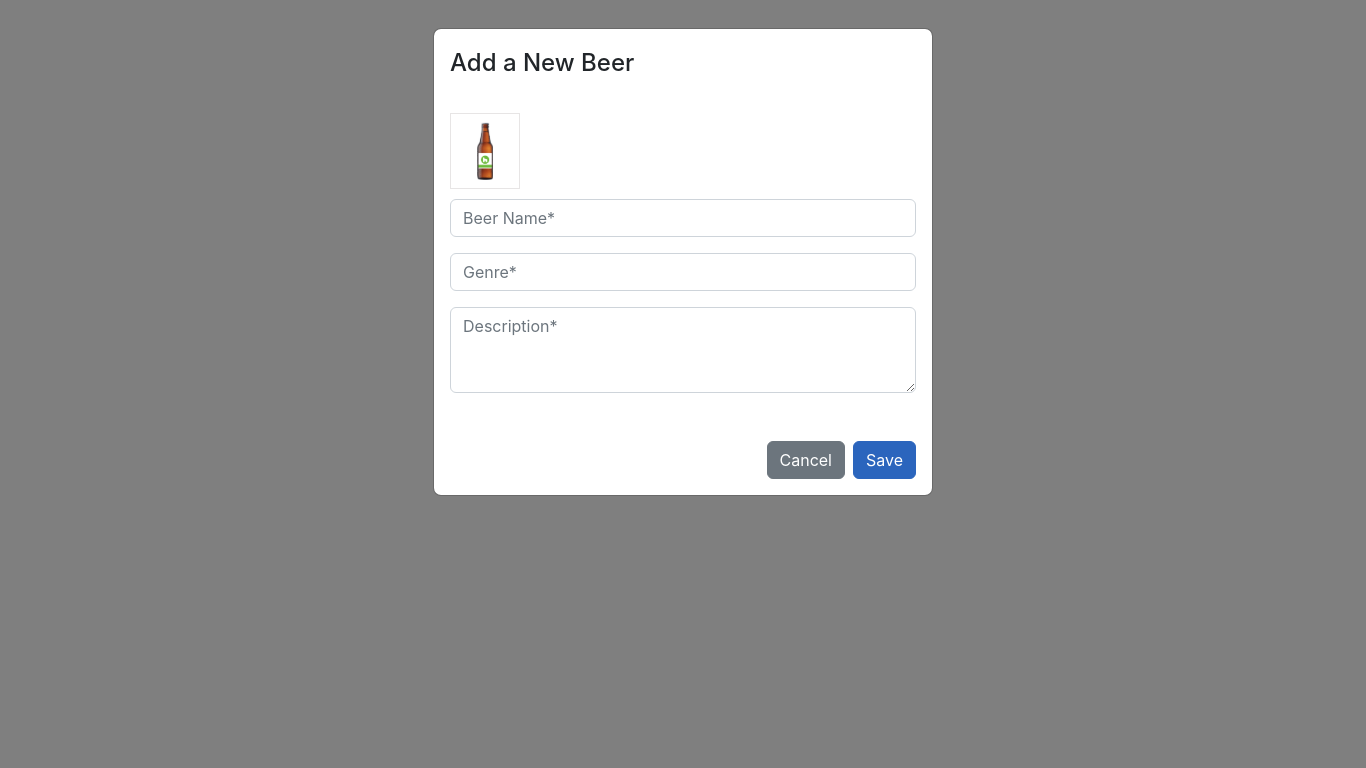
Test: Handles form validation › renders all field are empty
Click the button "Save".
click(884, 460)  # box [853,441,916,479]
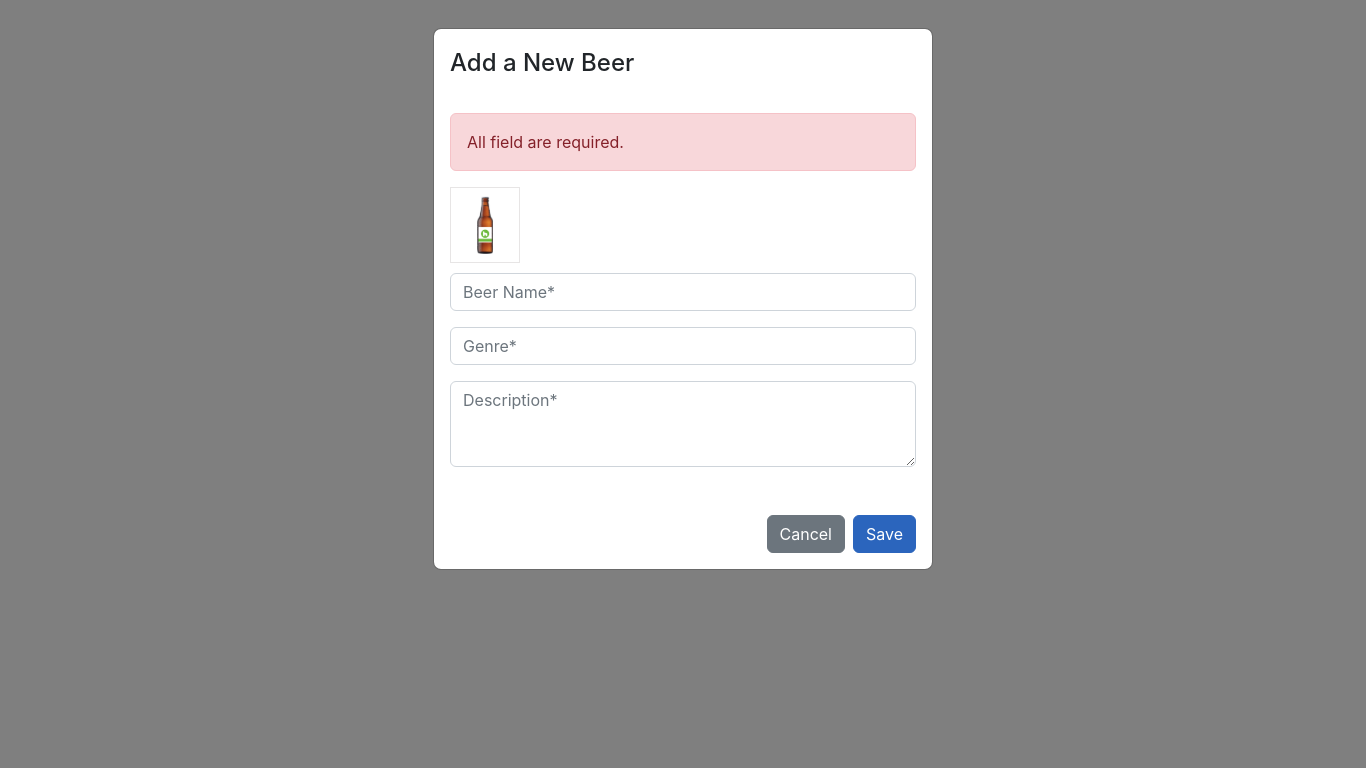
Result: the text "All field are required." is shown at [450,113,916,171]
